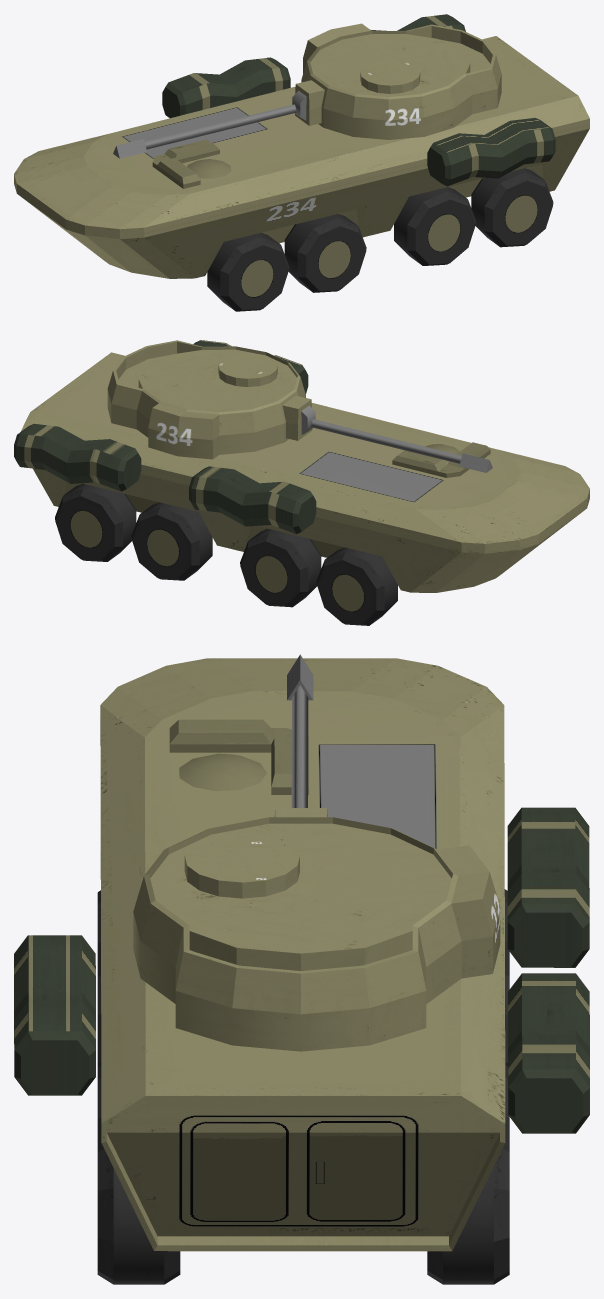
File: motopexota stoit.FBX
The picture shows the model from 3 angles, top to bottom: view 1: azimuth 30°, elevation 25°; view 2: azimuth 150°, elevation 25°; view 3: azimuth 270°, elevation 25°; orthographic projection. The views are drawn at different scales.
Visible parts, largest first — view 1: Box002, Cylinder027, Cylinder044, Cylinder045, Cylinder046, Cylinder020, Cylinder029; view 2: Box002, Cylinder027, Cylinder048, Cylinder050, Cylinder049, Cylinder047, Cylinder029; view 3: Box002, Cylinder027, Cylinder050, Cylinder045, Cylinder029.
Part boxes in pixels (box(x1,y1,x2,y2)): Box002: box(14, 14, 589, 278); Cylinder027: box(295, 23, 501, 139); Cylinder044: box(284, 214, 366, 292); Cylinder045: box(471, 168, 553, 247); Cylinder046: box(394, 187, 475, 265); Cylinder020: box(207, 232, 289, 311); Cylinder029: box(113, 90, 306, 158); Box002: box(14, 340, 589, 592); Cylinder027: box(107, 340, 312, 459); Cylinder048: box(240, 529, 321, 607); Cylinder050: box(55, 483, 136, 561); Cylinder049: box(131, 502, 212, 580); Cylinder047: box(316, 547, 397, 625); Cylinder029: box(301, 405, 492, 472); Box002: box(14, 658, 589, 1251); Cylinder027: box(133, 808, 500, 1051); Cylinder050: box(427, 1137, 509, 1284); Cylinder045: box(97, 1138, 180, 1284); Cylinder029: box(287, 654, 313, 807).
Size of the model in its own units: 77.88 by 25.92 by 40.69.
